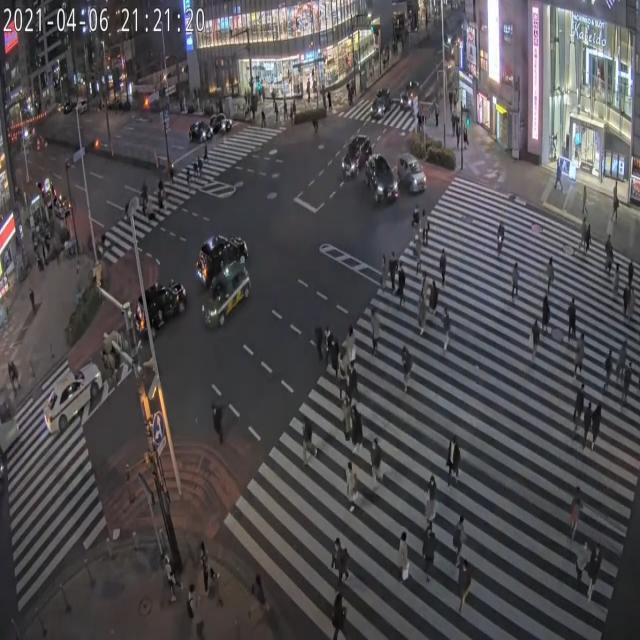humans: (298, 409, 328, 479), (393, 522, 416, 596), (585, 542, 608, 612), (422, 516, 442, 596), (366, 424, 386, 504), (341, 444, 361, 518), (327, 527, 351, 587), (457, 551, 473, 631), (365, 296, 382, 368), (183, 582, 204, 639), (573, 321, 594, 378), (444, 426, 460, 499), (208, 401, 229, 455), (425, 471, 445, 527), (249, 567, 267, 628), (196, 536, 212, 600), (567, 482, 583, 545), (398, 339, 414, 401), (329, 590, 348, 640), (453, 508, 467, 574), (437, 304, 451, 368), (508, 250, 526, 299), (160, 549, 176, 602), (525, 314, 541, 367), (310, 315, 324, 373), (562, 291, 577, 345), (615, 332, 629, 388), (625, 354, 636, 418), (601, 346, 613, 403), (340, 397, 353, 449), (577, 530, 587, 596), (492, 222, 507, 266), (388, 248, 402, 295), (544, 252, 558, 298), (322, 319, 333, 375), (600, 229, 614, 273), (352, 402, 363, 457), (339, 343, 349, 403), (208, 561, 220, 610), (348, 356, 359, 409), (346, 323, 356, 381), (398, 258, 408, 315), (574, 377, 584, 433), (327, 341, 339, 387), (583, 391, 592, 450), (410, 201, 421, 248), (429, 268, 439, 319), (418, 298, 428, 348), (537, 291, 549, 332), (421, 205, 431, 252), (592, 405, 605, 441), (610, 260, 621, 301), (419, 255, 426, 317), (438, 245, 446, 298), (381, 252, 392, 290), (630, 285, 638, 330), (628, 259, 636, 296), (580, 214, 586, 255), (588, 224, 594, 261), (624, 284, 628, 327)
